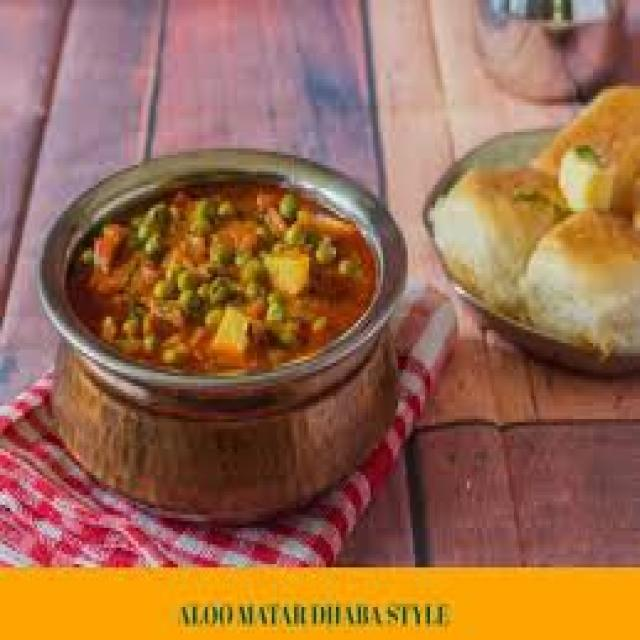Aloo Matar: (63, 184, 370, 376)
